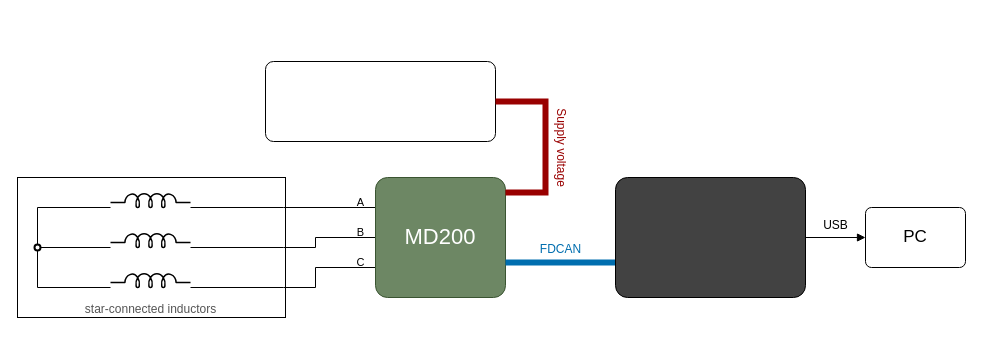
The diagram is 983 pixels wide and 338 high, and some of its shapes have lost their labels. Each missing label, with the centre of its shape:
CANdle: [710,237]
Power supply: [380,101]
